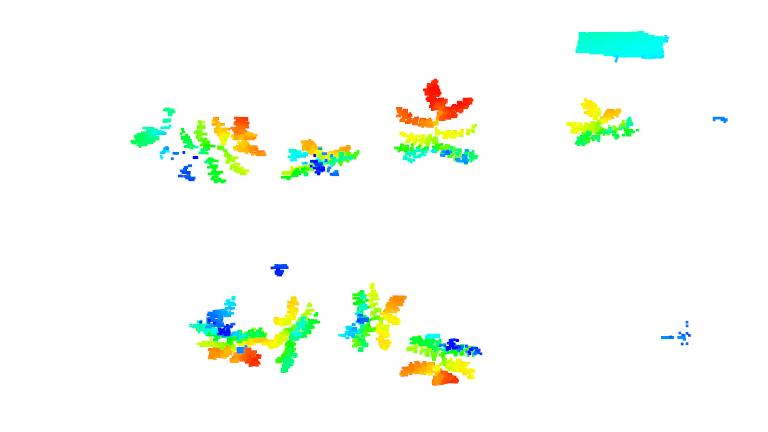chickpea: (127, 106, 266, 190), (391, 76, 483, 167), (191, 291, 262, 367), (336, 281, 407, 357), (263, 293, 321, 377), (397, 332, 478, 385), (565, 96, 643, 150), (282, 136, 363, 185)
